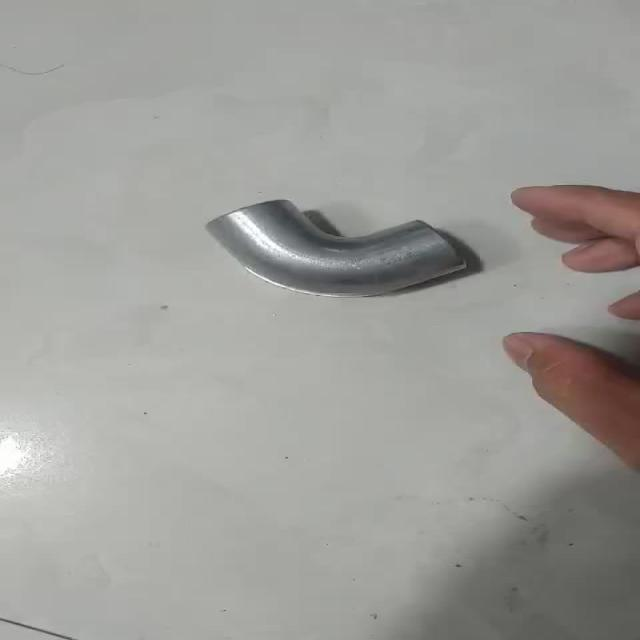Dry: (210, 201, 472, 299)
